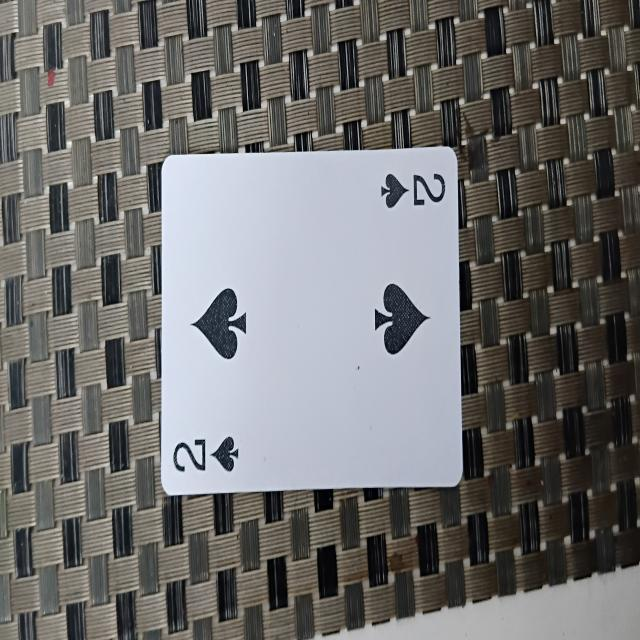2S: (162, 149, 463, 489)
